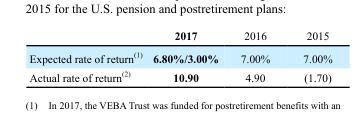table: (28, 28, 331, 83)
table column: (28, 28, 146, 83), (146, 28, 228, 83), (228, 28, 285, 83), (285, 28, 331, 83)
table column header: (28, 28, 331, 45)
table row: (28, 45, 331, 66), (28, 28, 331, 45), (28, 66, 331, 83)
